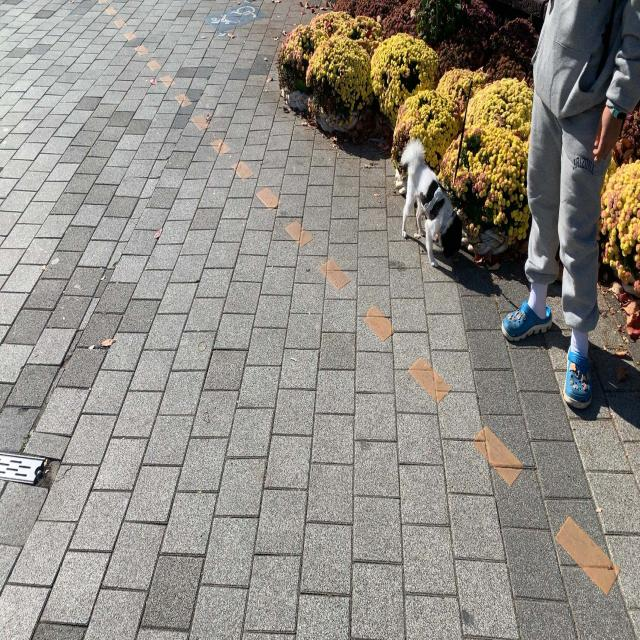Leashed_Dog: (400, 0, 589, 268)
